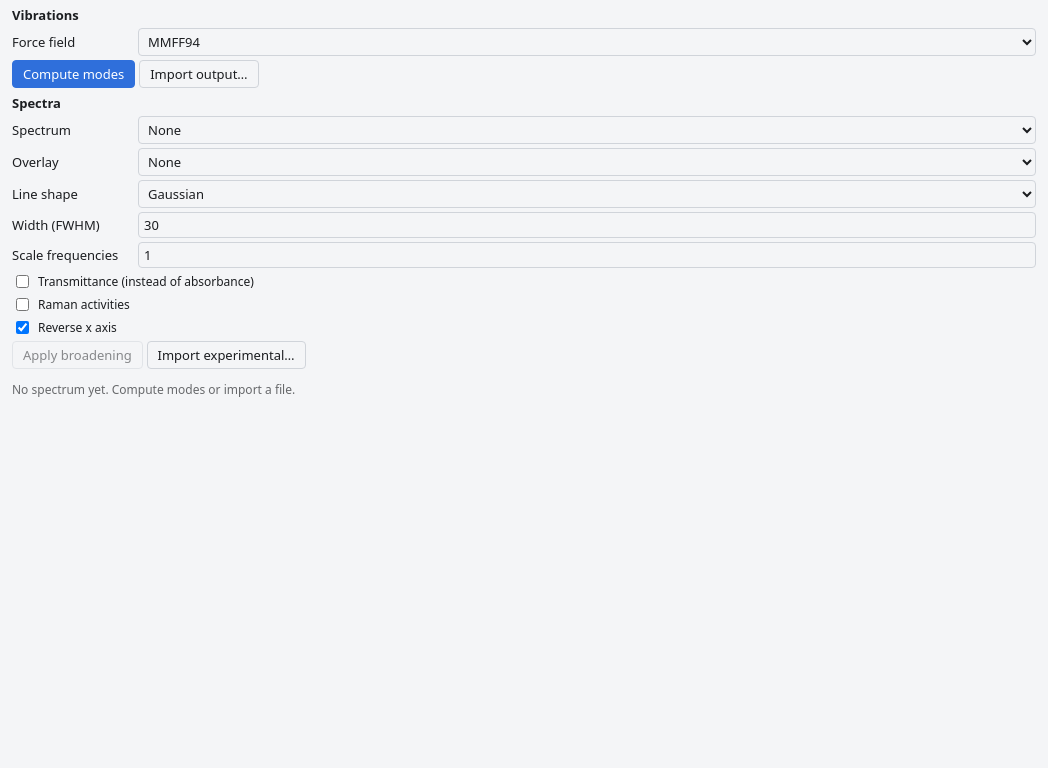
it: computes modes and lists them with frequency, intensity and symmetry
Expected: the text "No spectrum yet. Compute modes or import a file." is shown, [12,381,295,398]
Click the button "Compute modes".
click(74, 74)  # box [12,60,135,88]
(page scrolled)
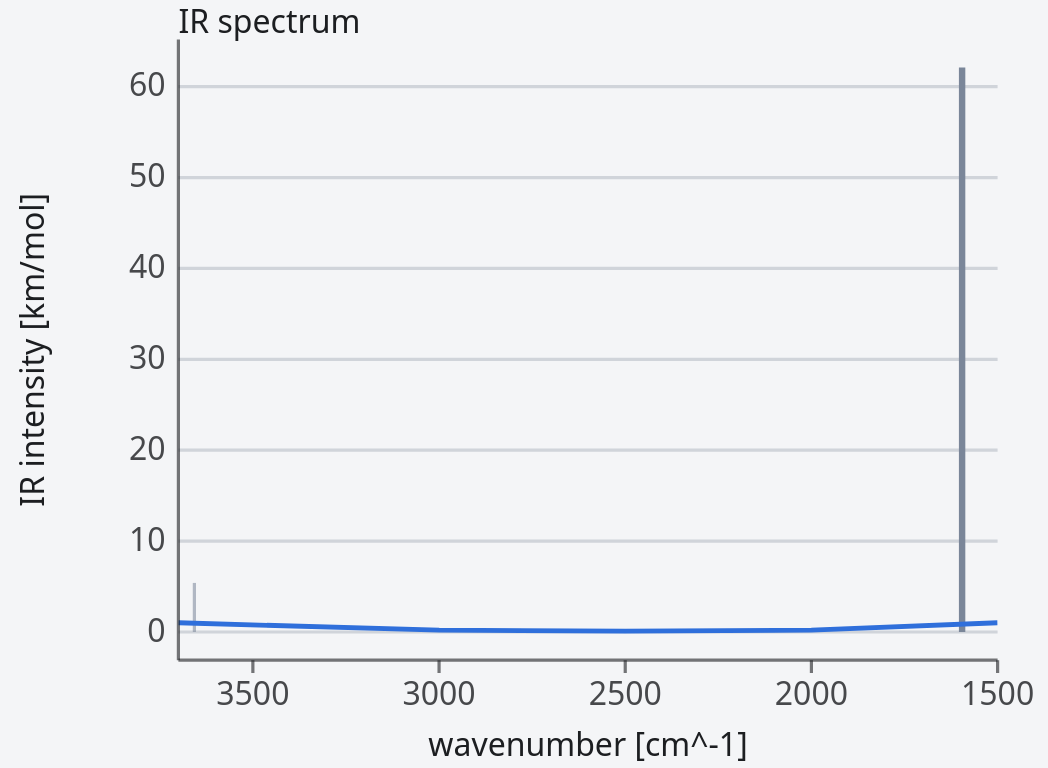
Expected: the picture "IR spectrum" is shown
